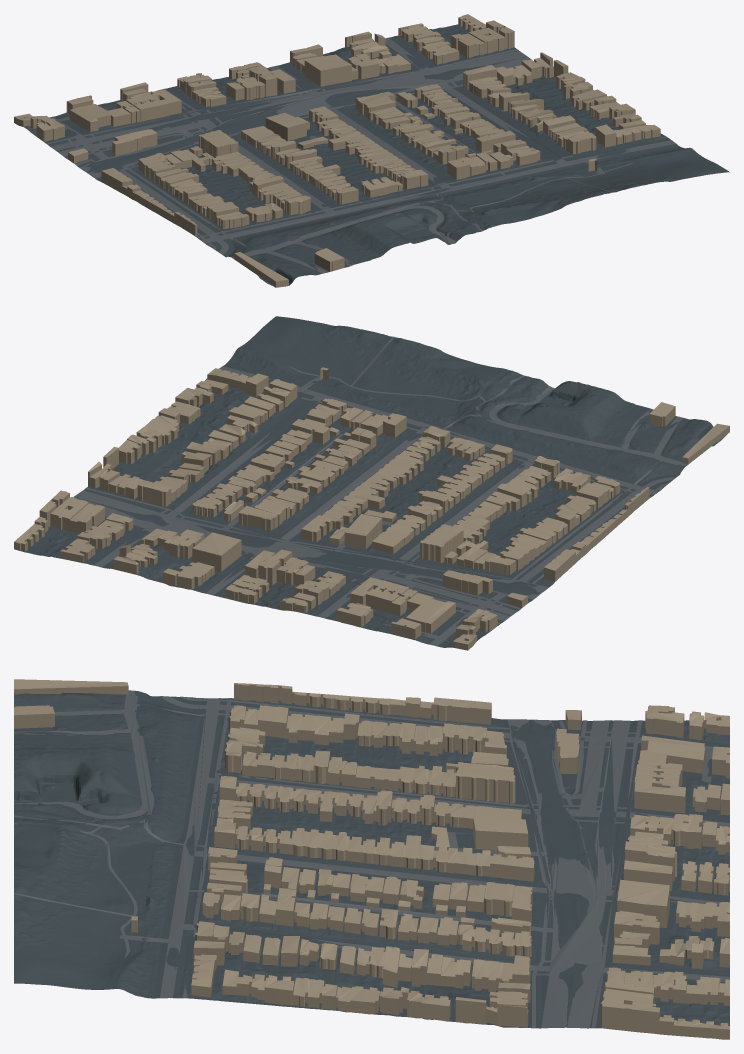
The model's file is epsg26910-1416-10889.lod0.glb.
The picture shows the model from 3 angles, top to bottom: view 1: azimuth 30°, elevation 25°; view 2: azimuth 150°, elevation 25°; view 3: azimuth 270°, elevation 25°; orthographic projection. The views are drawn at different scales.
Visible parts, largest first — view 1: epsg26910-1416-10889-lod0; view 2: epsg26910-1416-10889-lod0; view 3: epsg26910-1416-10889-lod0.
Boxes of the visible parts, box(x1,y1,x2,y2) form: epsg26910-1416-10889-lod0: box(14, 14, 729, 287); epsg26910-1416-10889-lod0: box(14, 316, 729, 650); epsg26910-1416-10889-lod0: box(14, 679, 729, 1039).
Bounding box in the file's own units: 384 × 40.63 × 384.
